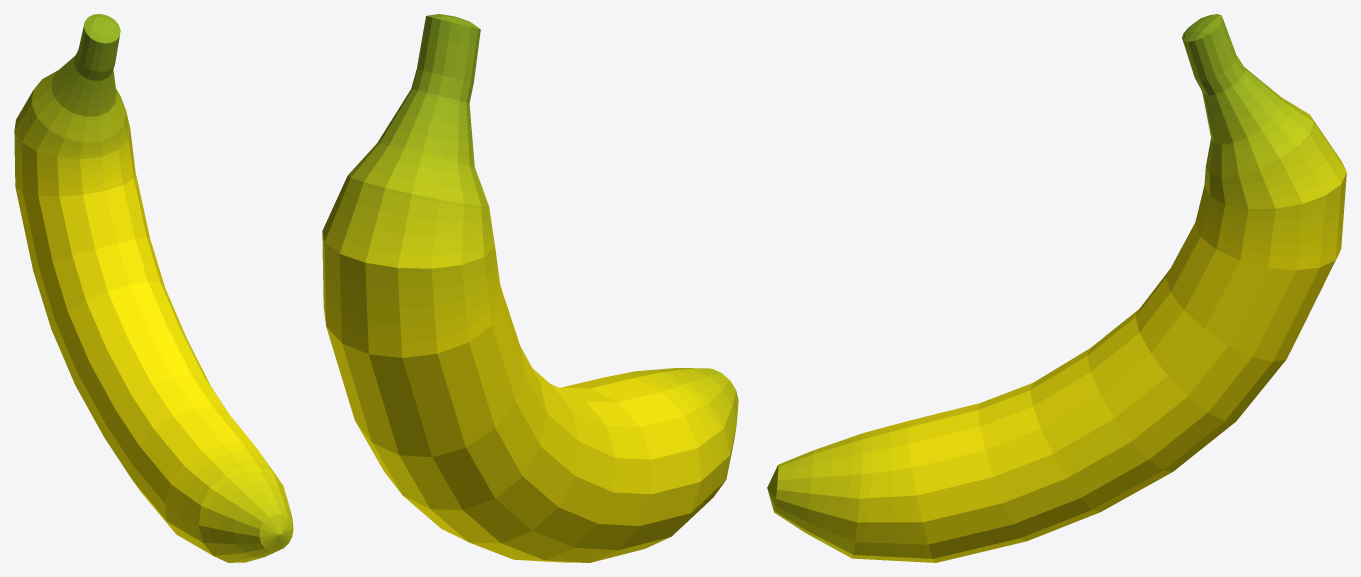
Rendered from SM_JBanana_01.fbx.
3 views of the same model, side by side, from view 1: azimuth 30°, elevation 25°; view 2: azimuth 150°, elevation 25°; view 3: azimuth 270°, elevation 25° (orthographic). The views are drawn at different scales.
Parts seen in each view (by area): view 1: Cylinder; view 2: Cylinder; view 3: Cylinder.
Boxes of the visible parts, bbox=[...] form: Cylinder: bbox=[14, 14, 293, 562]; Cylinder: bbox=[322, 14, 738, 562]; Cylinder: bbox=[767, 14, 1346, 562].
Bounding box in the file's own units: 0.9493 × 3.79 × 3.7.
